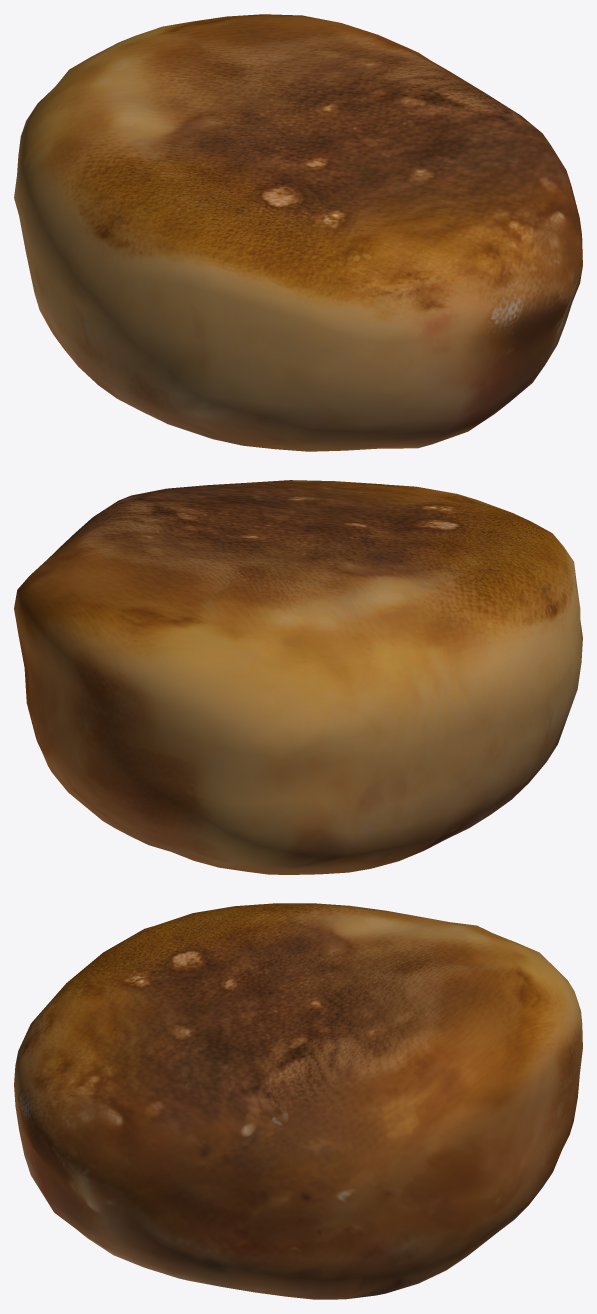
File: kibble.fbx
The picture shows the model from 3 angles, top to bottom: view 1: azimuth 30°, elevation 25°; view 2: azimuth 150°, elevation 25°; view 3: azimuth 270°, elevation 25°; orthographic projection. The views are drawn at different scales.
Parts seen in each view (by area): view 1: RETOPO; view 2: RETOPO; view 3: RETOPO.
Part boxes in pixels (x1,y1,x2,y2): RETOPO: (14,14,582,451); RETOPO: (14,480,582,874); RETOPO: (14,903,582,1299).
Size of the model in its own units: 89.68 by 53.59 by 99.2.
Materials: 1 (1 with a texture image).
